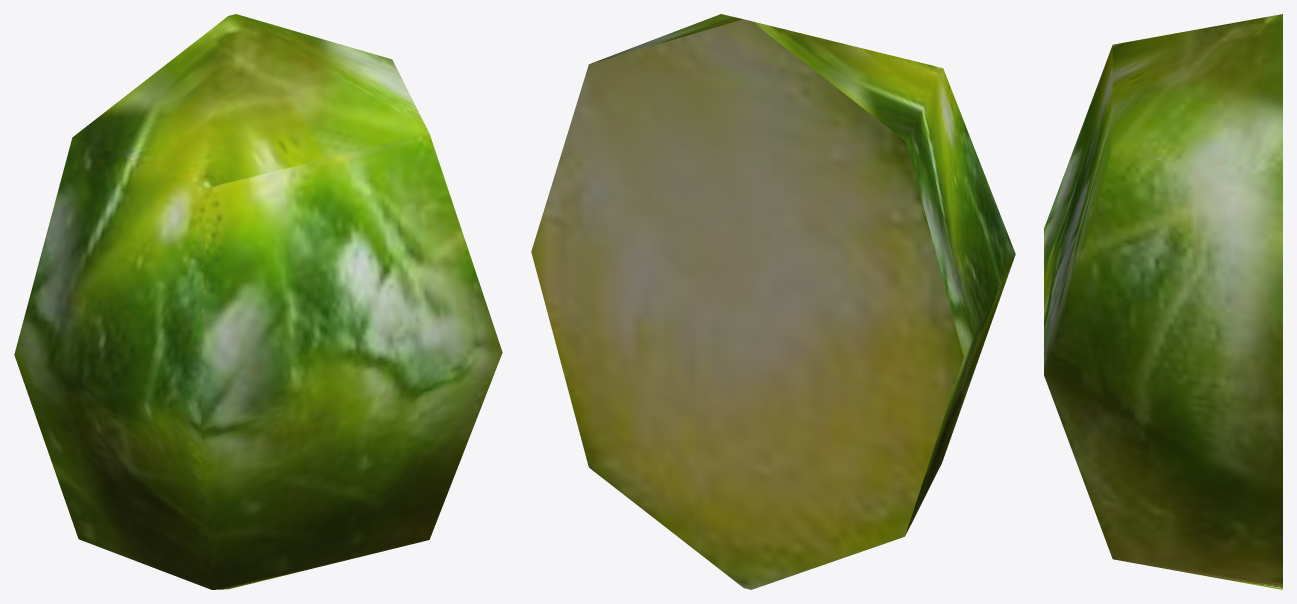
File: Brussel_sprouts_01.glb
3 renders of one model, left to right at view 1: azimuth 30°, elevation 25°; view 2: azimuth 150°, elevation 25°; view 3: azimuth 270°, elevation 25°, orthographic.
Parts seen in each view (by area): view 1: Brussel_sprouts_01; view 2: Brussel_sprouts_01; view 3: Brussel_sprouts_01.
Part boxes in pixels (x1,y1,x2,y2): Brussel_sprouts_01: (14, 14, 502, 589); Brussel_sprouts_01: (531, 14, 1015, 589); Brussel_sprouts_01: (1044, 14, 1282, 589).
Size of the model in its own units: 0.0945 by 0.1187 by 0.0449.
1 material, 1 textured.
